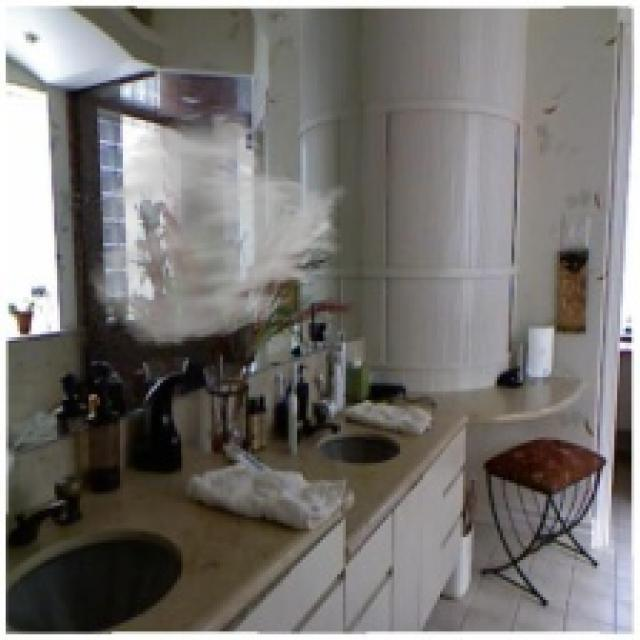Smoke: (86, 109, 352, 348)
